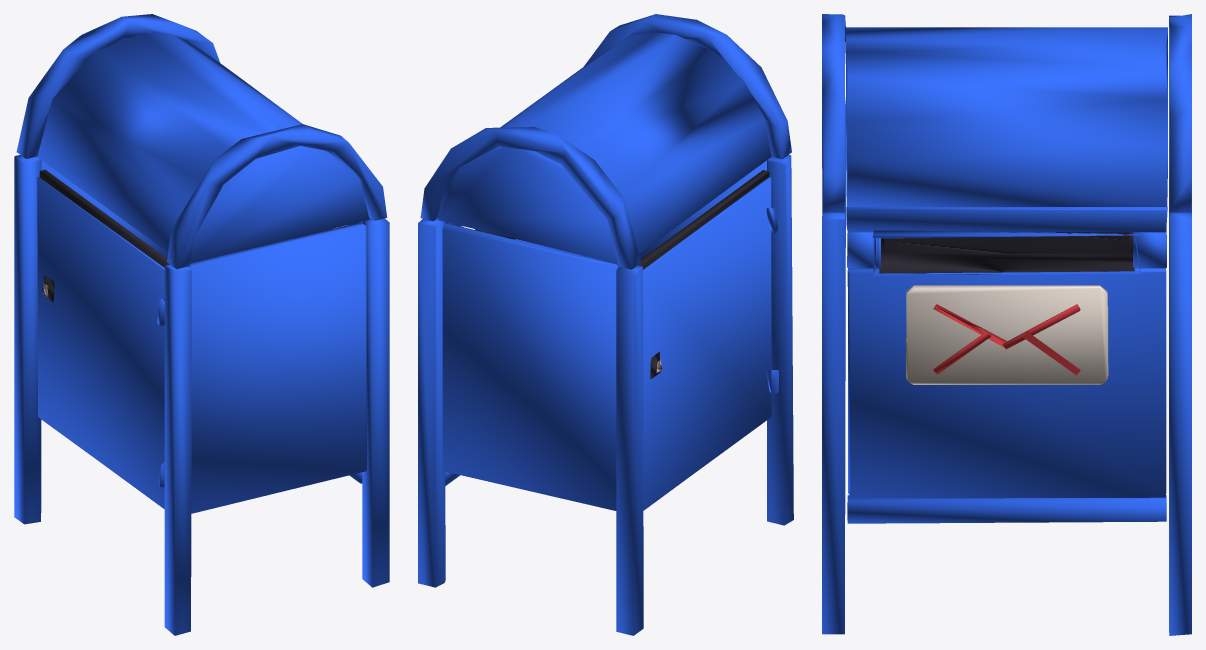
3 renders of one model, left to right at view 1: azimuth 30°, elevation 25°; view 2: azimuth 150°, elevation 25°; view 3: azimuth 270°, elevation 25°, orthographic. The views are drawn at different scales.
Size of the model in its own units: 0.7363 by 1.54 by 0.9367.
